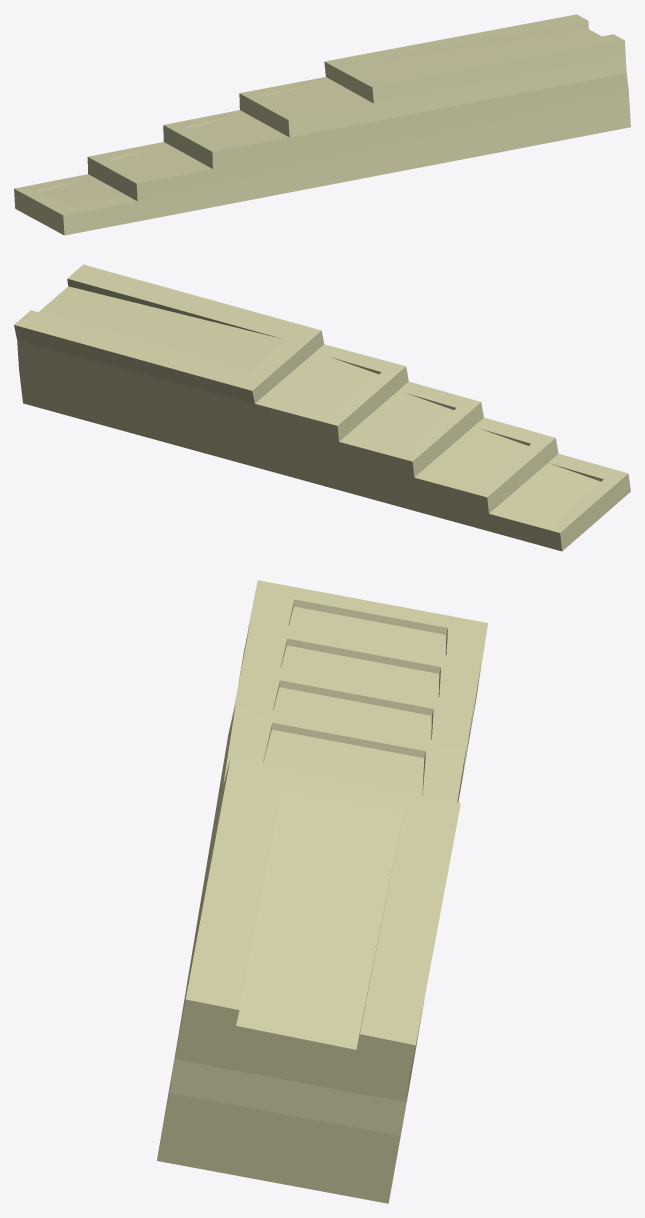
File: collector_switch.fbx
3 views of the same model, one above another, from view 1: azimuth 30°, elevation 25°; view 2: azimuth 150°, elevation 25°; view 3: azimuth 270°, elevation 25° (orthographic). The views are drawn at different scales.
Parts seen in each view (by area): view 1: Cube.014; view 2: Cube.014; view 3: Cube.014.
Boxes of the visible parts, x1,y1,x2,y2 form: Cube.014: [14, 14, 630, 235]; Cube.014: [14, 264, 630, 551]; Cube.014: [157, 580, 487, 1203].
Size of the model in its own units: 26.14 by 4.6 by 6.78.
